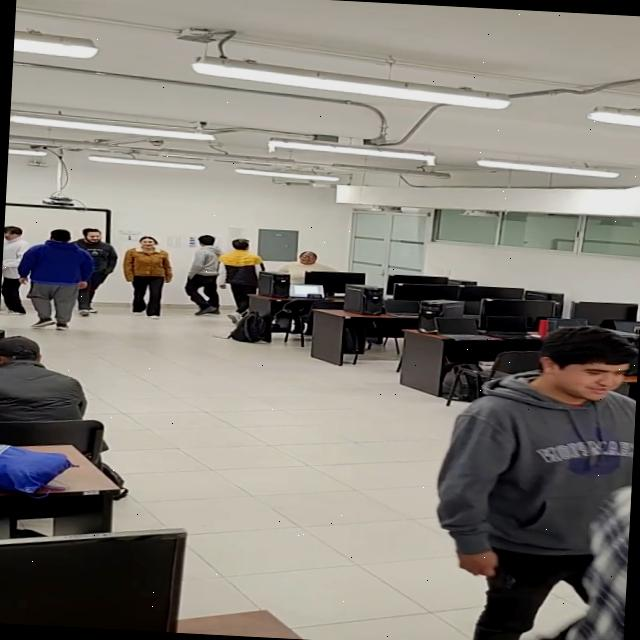Persona: (446, 311, 640, 640), (28, 230, 82, 320), (124, 237, 172, 321), (68, 226, 112, 317), (222, 239, 264, 316), (189, 234, 220, 318), (0, 226, 26, 316), (276, 248, 334, 277)
